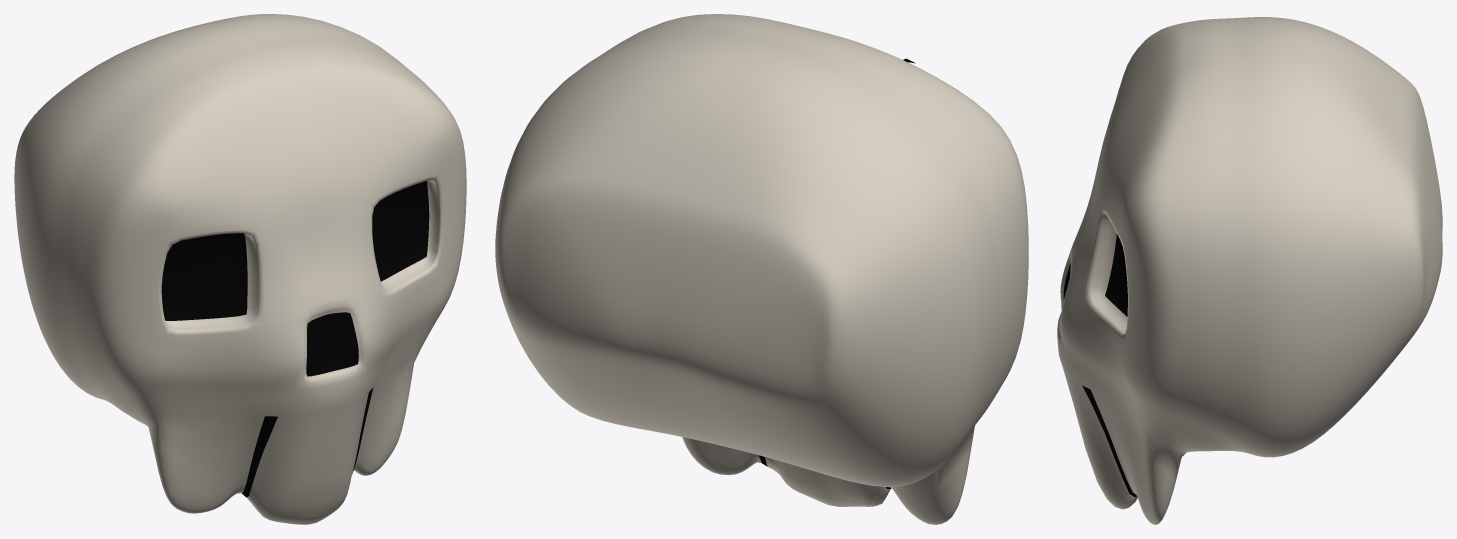
File: OllieSkull 1.fbx
3 views of the same model, side by side, from view 1: azimuth 30°, elevation 25°; view 2: azimuth 150°, elevation 25°; view 3: azimuth 270°, elevation 25° (orthographic). The views are drawn at different scales.
Parts seen in each view (by area): view 1: Plane.001; view 2: Plane.001; view 3: Plane.001.
Boxes of the visible parts, box(x1,y1,x2,y2) form: Plane.001: box(14, 14, 466, 524); Plane.001: box(495, 14, 1028, 524); Plane.001: box(1057, 17, 1442, 524).
Bounding box in the file's own units: 450 × 488 × 375.
